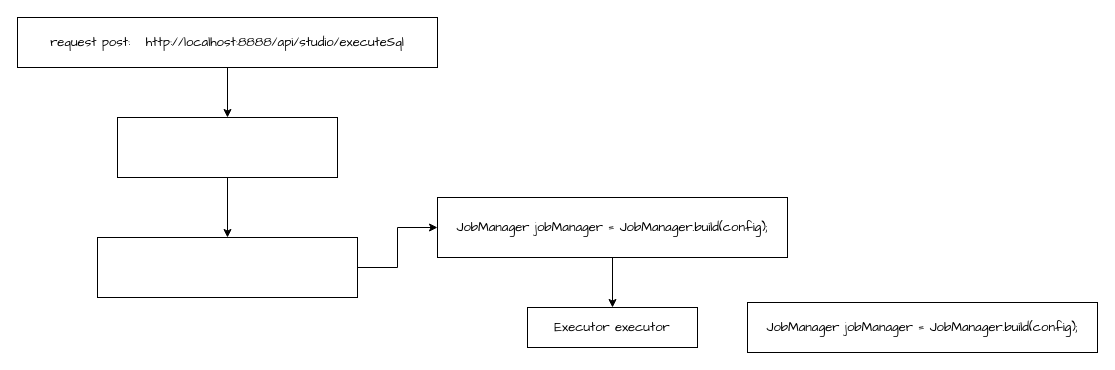
Some shapes in this 1115 by 370 pixel diagram are drawn without their labels. The centre of each missing label's shape, as x and y in pixels:
"StudioServiceImpl#executeFlinkSql ()" belongs at (x=227, y=267).
"StudioServiceImpl#executeSQL()" belongs at (x=227, y=147).
